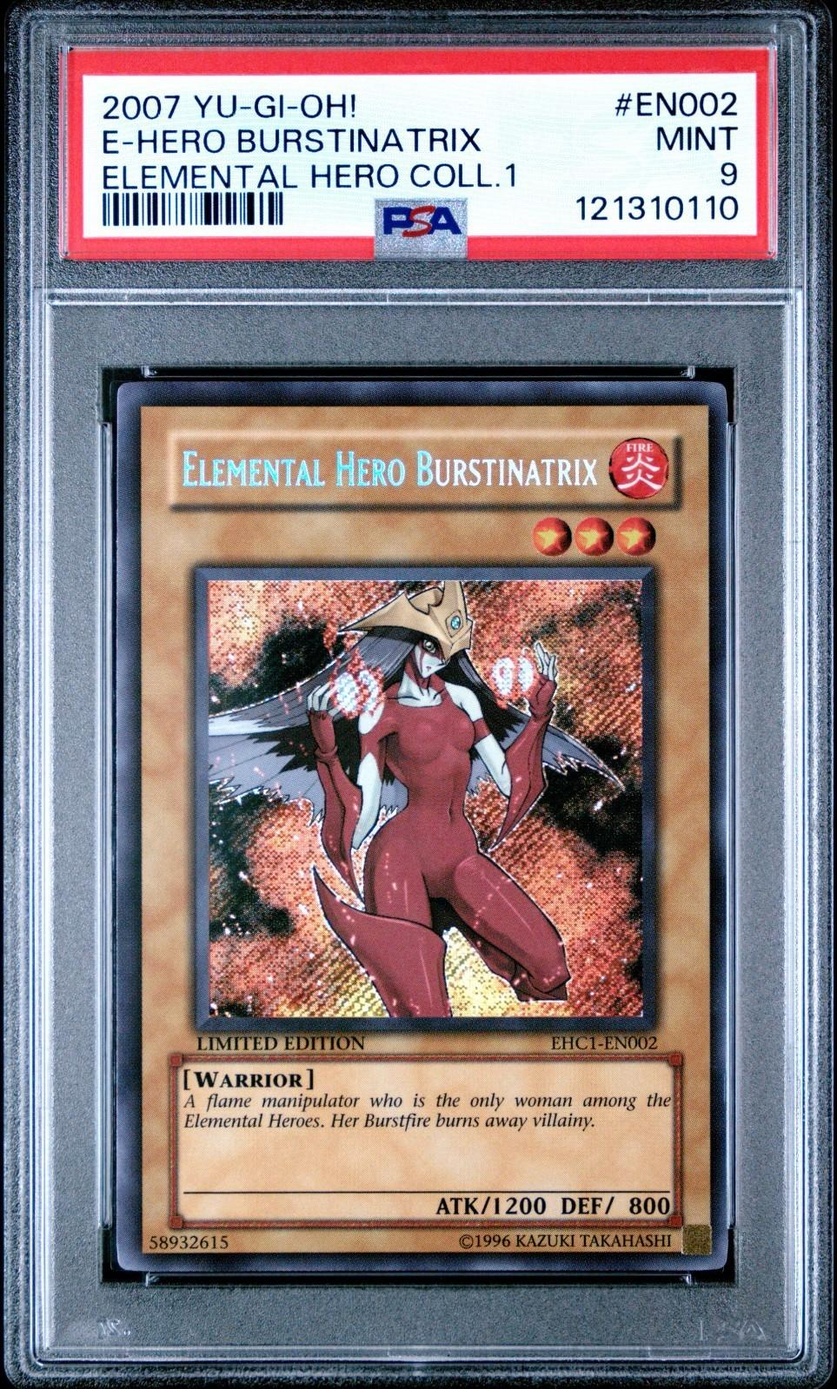card-2UtV: (116, 381, 729, 1272)
